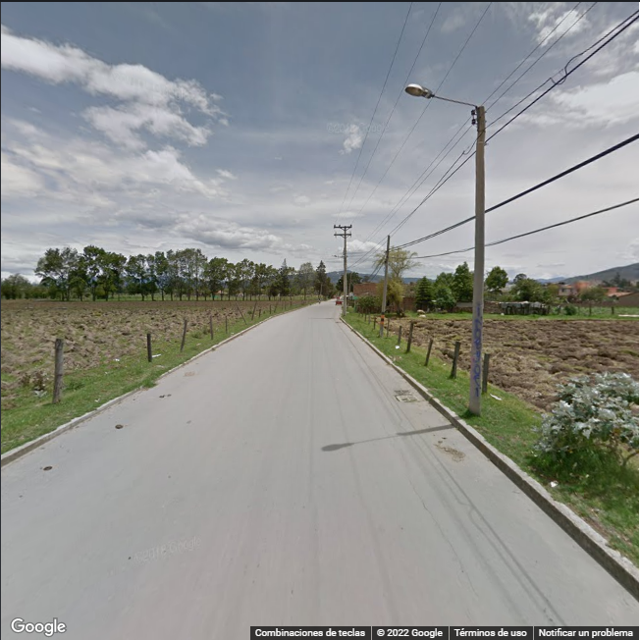D00: (399, 450, 477, 590)
